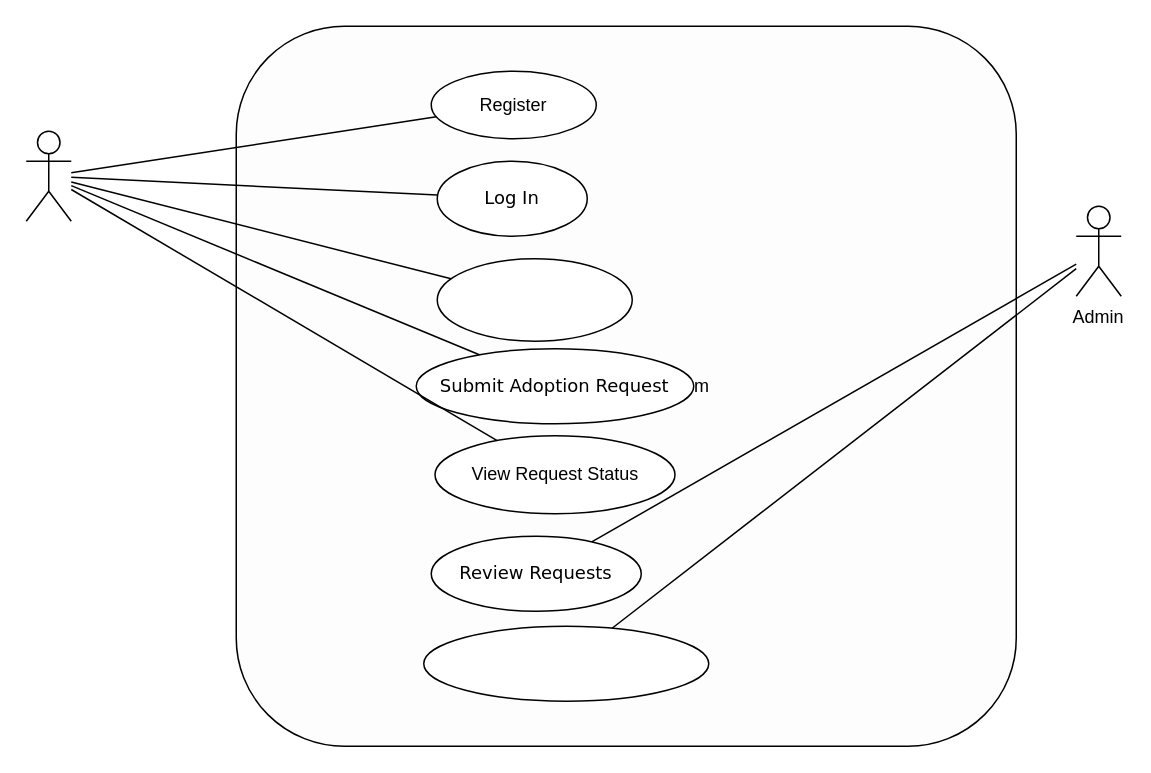
Some shapes in this 1151 by 773 pixel diagram are drawn without their labels. Here are the shapes that lost their labels. From the top down, the box of each, then its label:
(25, 130, 71, 221): User
(436, 257, 632, 341): Browse Pets
(422, 625, 709, 701): Add / Edit / Remove Pet
